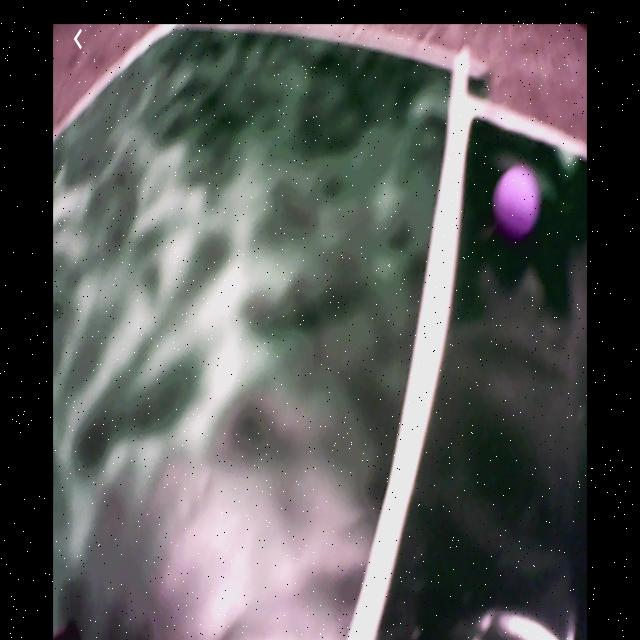ball: (494, 165, 543, 236)
